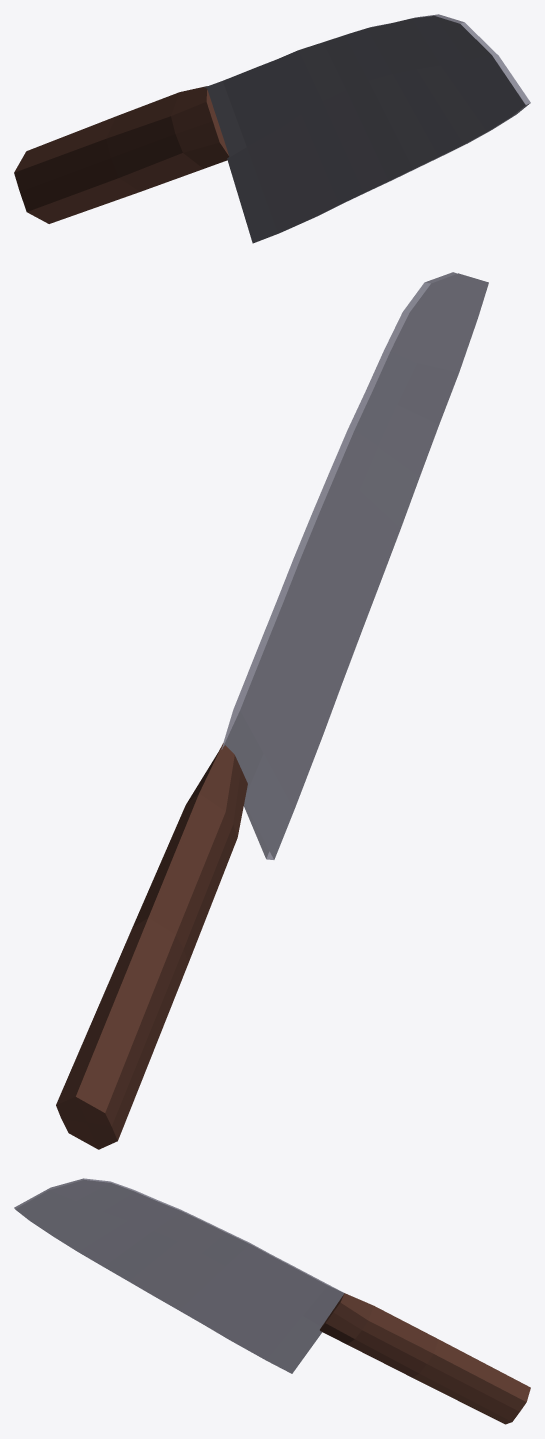
Rendered from knife.fbx.
The picture shows the model from 3 angles, top to bottom: view 1: azimuth 30°, elevation 25°; view 2: azimuth 150°, elevation 25°; view 3: azimuth 270°, elevation 25°; orthographic projection. The views are drawn at different scales.
Parts seen in each view (by area): view 1: Knife, Cube; view 2: Knife, Cube; view 3: Knife, Cube.
Boxes of the visible parts, x1,y1,x2,y2 form: Knife: [204, 14, 530, 243]; Cube: [14, 86, 229, 223]; Knife: [221, 272, 488, 859]; Cube: [56, 743, 247, 1149]; Knife: [14, 1178, 344, 1373]; Cube: [320, 1293, 530, 1424].
Size of the model in its own units: 31.39 by 120 by 211.
